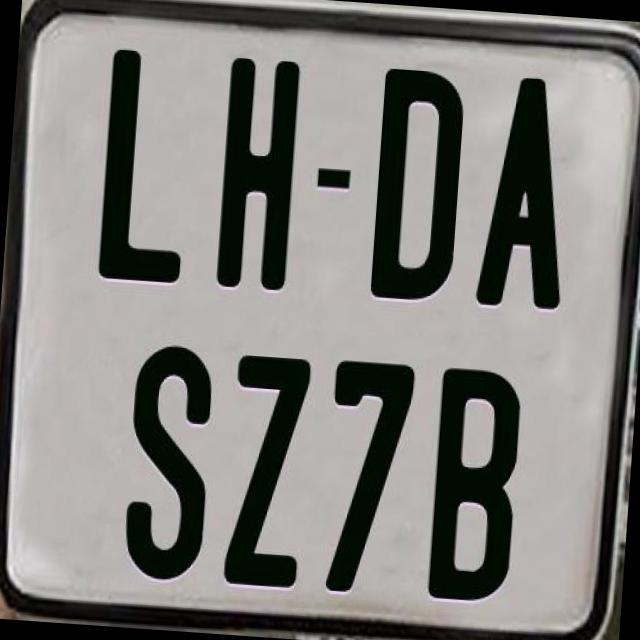7: (317, 356, 415, 593)
A: (474, 70, 576, 307)
B: (424, 367, 524, 609)
D: (370, 63, 470, 300)
H: (212, 56, 306, 290)
L: (93, 44, 196, 284)
S: (119, 338, 218, 583)
Z: (222, 352, 316, 596)
